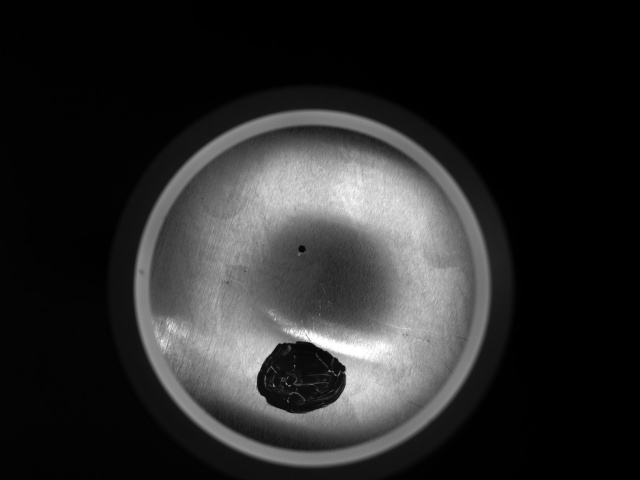zang_wu: (256, 338, 347, 414)
zhen_kong: (293, 241, 312, 256)
